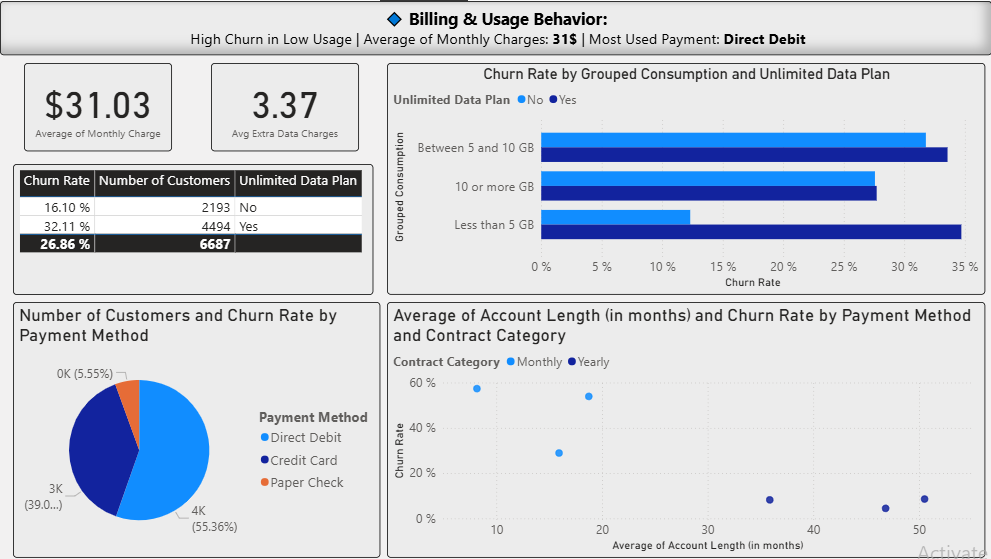

The page's visual inventory and layout, read from the dashboard file:
{"tool":"powerbi","page":{"name":"Billing & Usage Behavior","canvas":[1280,720],"ordinal":3},"visuals":[{"type":"clusteredBarChart","fields":{"Category":["Databel - Data.Grouped Consumption"],"Y":["Databel - Data.Churn Rate"],"Series":["Databel - Data.Unlimited Data Plan"]},"box":[499.4,80,771.6,299.4],"z":0},{"type":"tableEx","fields":{"Values":["Databel - Data.Churn Rate","Databel - Data.Number of Costumers","Databel - Data.Unlimited Data Plan"]},"box":[16.8,210.3,464.5,169],"z":1000},{"type":"pieChart","fields":{"Category":["Databel - Data.Payment Method"],"Y":["Databel - Data.Number of Customers"]},"box":[16.8,388.4,473.5,330.3],"z":2000},{"type":"card","fields":{"Values":["Databel - Data.Avg Extra Data Charges"]},"box":[272.3,80,191,113.5],"z":3000},{"type":"scatterChart","fields":{"Y":["Databel - Data.Churn Rate"],"X":["Databel - Data.Account Length (in months)"],"Category":["Databel - Data.Payment Method"],"Series":["Databel - Data.Contract Category"]},"box":[499.4,388.4,771.6,330.3],"z":4000},{"type":"card","fields":{"Values":["Avg(Databel - Data.Monthly Charge)"]},"box":[31,80,191,113.5],"z":5000},{"type":"textbox","box":[0,0,1280,69.7],"z":6000}]}

Visuals, with their boxes in screenshot pixels (x1, y1, x2, y2), scaled from the page's 1280x720 canvas onto the 991x559 screenshot:
clusteredBarChart - Databel - Data.Grouped Consumption x Databel - Data.Churn Rate: bbox(387, 62, 984, 295)
tableEx - Databel - Data.Churn Rate x Databel - Data.Number of Costumers: bbox(13, 163, 373, 294)
pieChart - Databel - Data.Payment Method x Databel - Data.Number of Customers: bbox(13, 302, 380, 558)
card - Databel - Data.Avg Extra Data Charges: bbox(211, 62, 359, 150)
scatterChart - Databel - Data.Churn Rate x Databel - Data.Account Length (in months): bbox(387, 302, 984, 558)
card - Avg(Databel - Data.Monthly Charge): bbox(24, 62, 172, 150)
textbox: bbox(0, 0, 990, 54)
